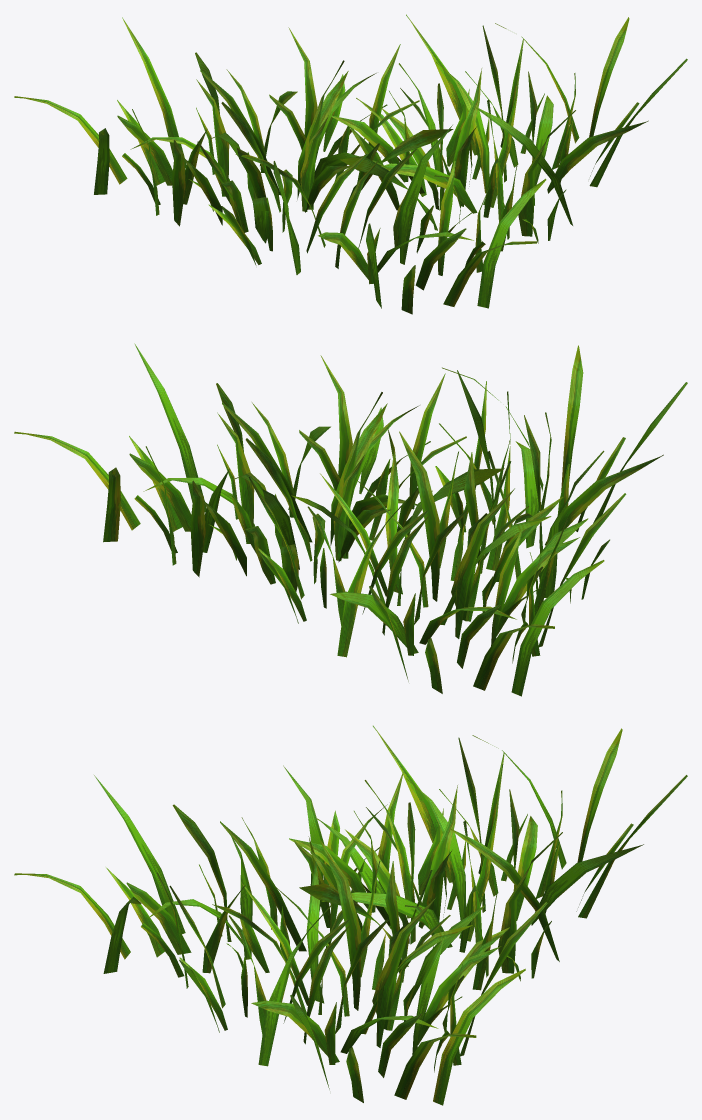
The model's file is grass.fbx.
3 renders of one model, top to bottom at view 1: azimuth 30°, elevation 25°; view 2: azimuth 150°, elevation 25°; view 3: azimuth 270°, elevation 25°, orthographic. The views are drawn at different scales.
Parts seen in each view (by area): view 1: grassb2, grassb1, grassb; view 2: grassb2, grassb1, grassb; view 3: grassb1, grassb2, grassb.
Boxes of the visible parts, left/top/right/bottom form: grassb2: left=14, top=17, right=453, bottom=243; grassb1: left=331, top=14, right=687, bottom=251; grassb: left=197, top=125, right=546, bottom=314; grassb2: left=248, top=428, right=626, bottom=696; grassb1: left=14, top=343, right=504, bottom=591; grassb: left=435, top=345, right=687, bottom=615; grassb1: left=169, top=836, right=547, bottom=1105; grassb2: left=289, top=725, right=687, bottom=990; grassb: left=14, top=765, right=404, bottom=988.
Size of the model in its own units: 7.73 by 2.19 by 7.34.
